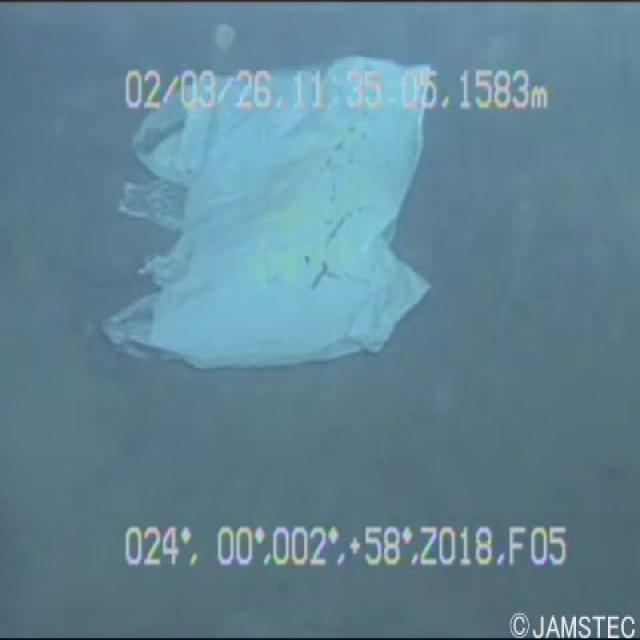plastic: (91, 36, 437, 384)
